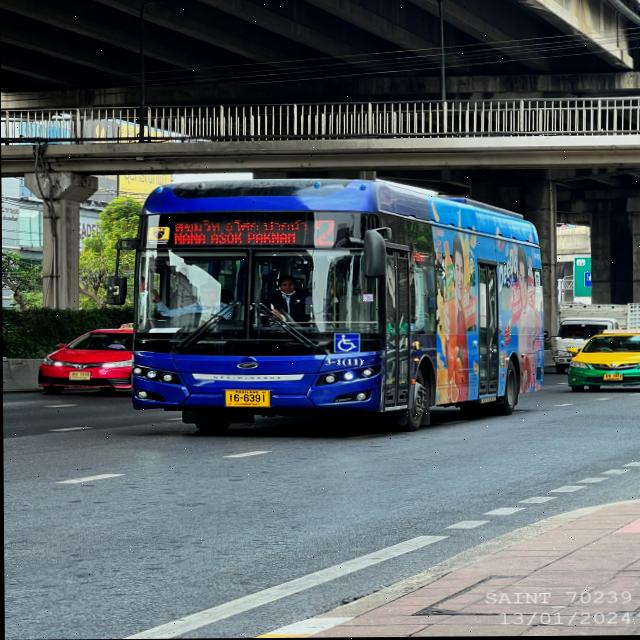Bus Line Number: (311, 217, 338, 249)
Bus Side Number: (320, 356, 367, 368)
Destination Sign: (170, 216, 309, 251)
TSB-Bus: (129, 173, 548, 435)
